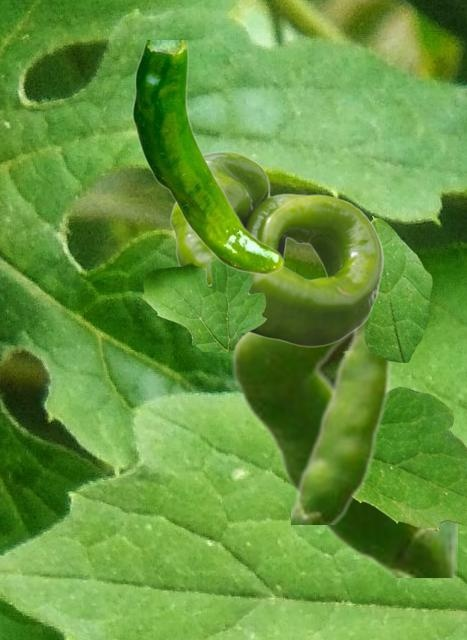green_chili: (230, 334, 456, 576), (170, 151, 382, 346), (132, 40, 283, 274), (291, 325, 393, 523)
